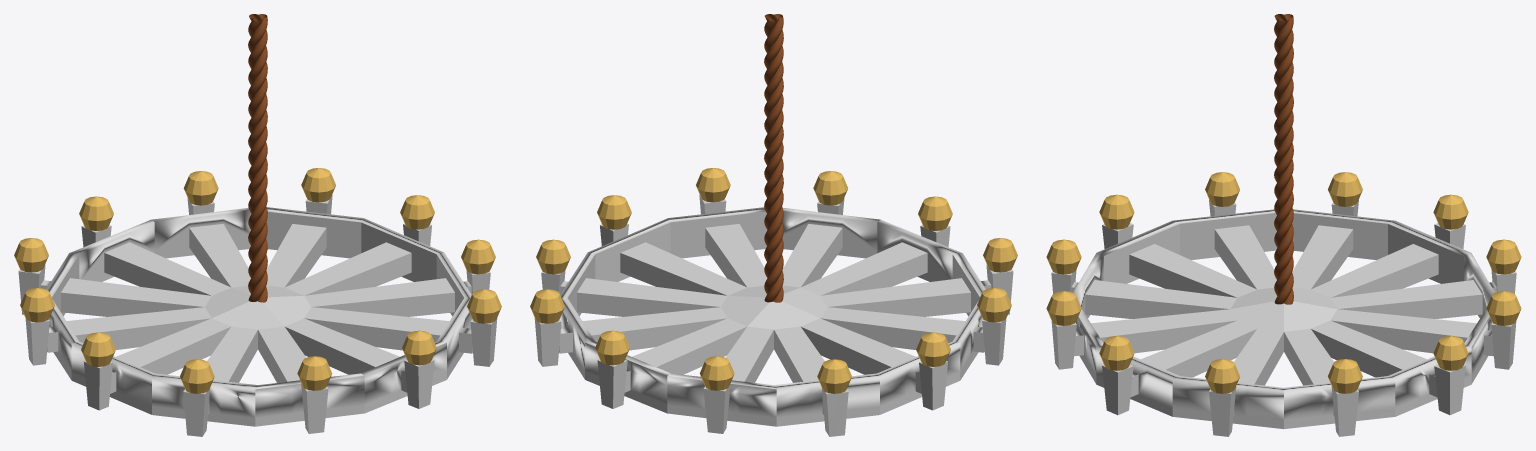
The picture shows the model from 3 angles, left to right: view 1: azimuth 30°, elevation 25°; view 2: azimuth 150°, elevation 25°; view 3: azimuth 270°, elevation 25°; orthographic projection.
Visible parts, largest first — view 1: chandelier, Lightsource, Rope; view 2: chandelier, Lightsource, Rope; view 3: chandelier, Lightsource, Rope.
Part boxes in pixels (bbox=[...]): chandelier: bbox=[18, 194, 497, 436]; Lightsource: bbox=[14, 168, 501, 393]; Rope: bbox=[248, 14, 267, 302]; chandelier: bbox=[534, 194, 1013, 436]; Lightsource: bbox=[530, 168, 1017, 393]; Rope: bbox=[764, 14, 783, 302]; chandelier: bbox=[1051, 199, 1516, 436]; Lightsource: bbox=[1046, 172, 1521, 393]; Rope: bbox=[1274, 14, 1293, 304].
Bounding box in the file's own units: 891 × 665 × 886.
